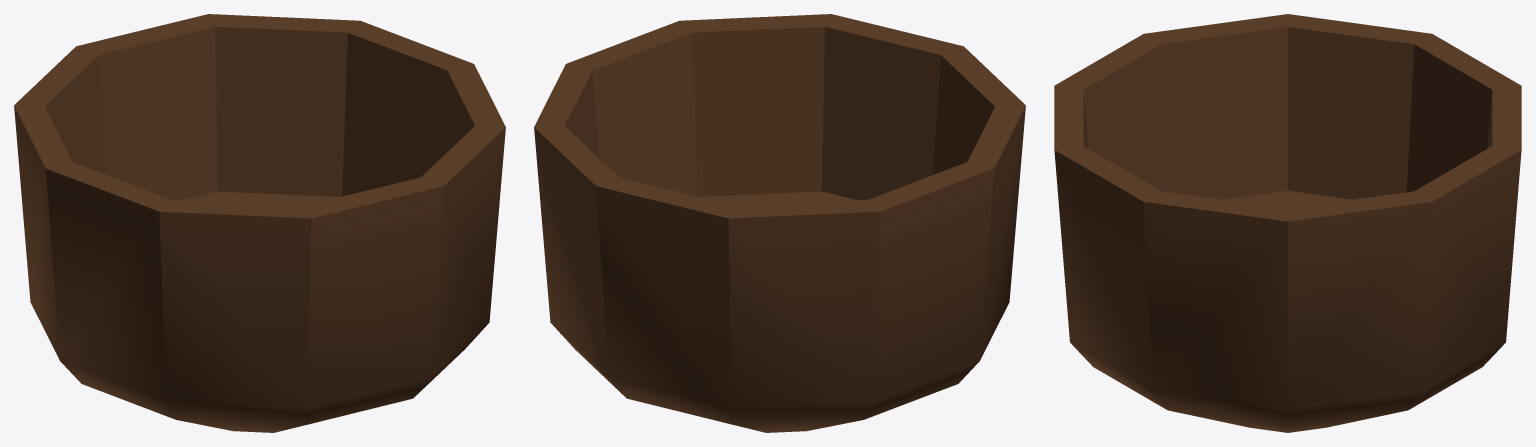
File: amelioration--nid-de-pie.glb
3 renders of one model, left to right at view 1: azimuth 30°, elevation 25°; view 2: azimuth 150°, elevation 25°; view 3: azimuth 270°, elevation 25°, orthographic.
Visible parts, largest first — view 1: hune; view 2: hune; view 3: hune.
Boxes of the visible parts, <box> form: hune: <box>14,14,505,432</box>; hune: <box>534,14,1025,432</box>; hune: <box>1054,14,1521,432</box>.
Bounding box in the file's own units: 2.4 × 1.55 × 2.28.
